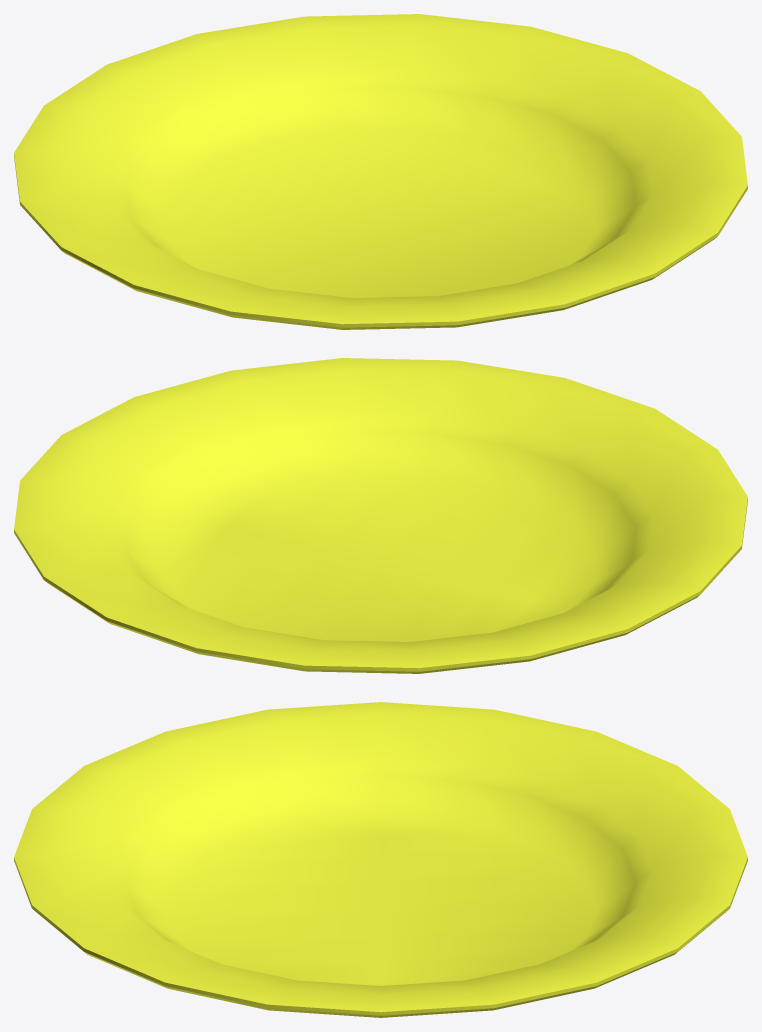
File: YellowPlate.fbx
3 renders of one model, top to bottom at view 1: azimuth 30°, elevation 25°; view 2: azimuth 150°, elevation 25°; view 3: azimuth 270°, elevation 25°, orthographic.
Visible parts, largest first — view 1: pCylinder9; view 2: pCylinder9; view 3: pCylinder9.
Boxes of the visible parts, left/top/right/bottom form: pCylinder9: left=14, top=14, right=747, bottom=329; pCylinder9: left=14, top=358, right=747, bottom=673; pCylinder9: left=14, top=702, right=747, bottom=1017.
Size of the model in its own units: 2.52 by 0.2146 by 2.52.
